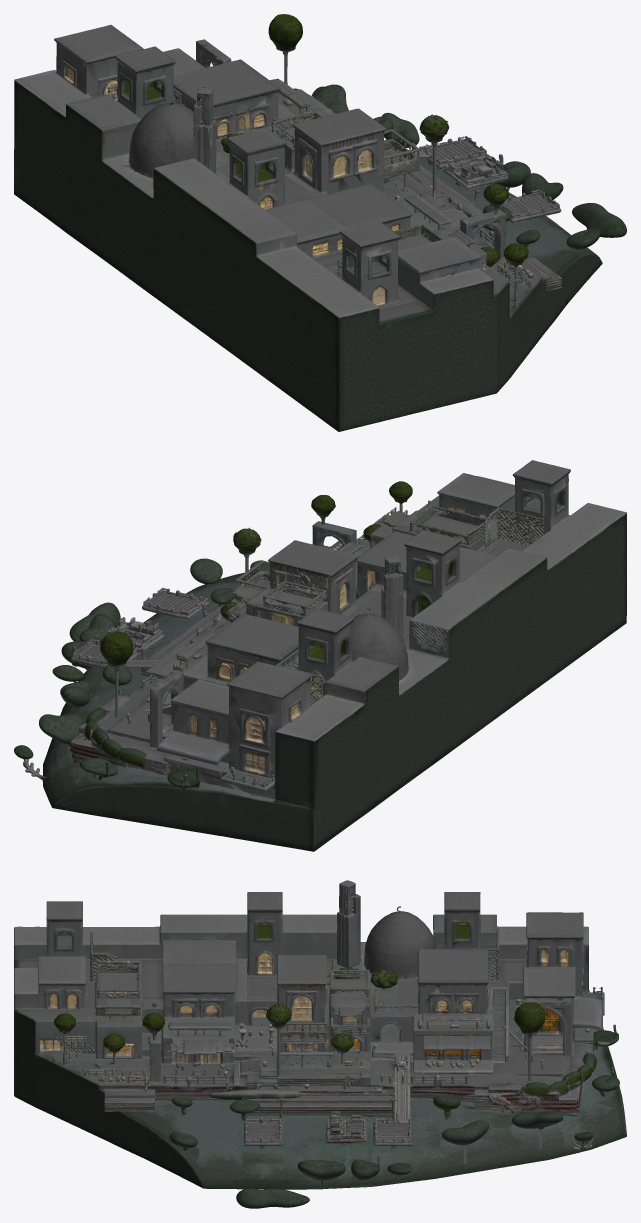
Rendered from diorama.glb.
3 renders of one model, top to bottom at view 1: azimuth 30°, elevation 25°; view 2: azimuth 150°, elevation 25°; view 3: azimuth 270°, elevation 25°, orthographic. The views are drawn at different scales.
Visible parts, largest first — view 1: tripo_node_d4d403ca-c68f-4391-b229-f40cb69f2f81; view 2: tripo_node_d4d403ca-c68f-4391-b229-f40cb69f2f81; view 3: tripo_node_d4d403ca-c68f-4391-b229-f40cb69f2f81.
Part boxes in pixels (bbox=[...]): tripo_node_d4d403ca-c68f-4391-b229-f40cb69f2f81: bbox=[14, 14, 626, 431]; tripo_node_d4d403ca-c68f-4391-b229-f40cb69f2f81: bbox=[14, 460, 626, 851]; tripo_node_d4d403ca-c68f-4391-b229-f40cb69f2f81: bbox=[14, 880, 626, 1208].
Bounding box in the file's own units: 57.42 × 25 × 81.79.
Materials: 1 (1 with a texture image).
